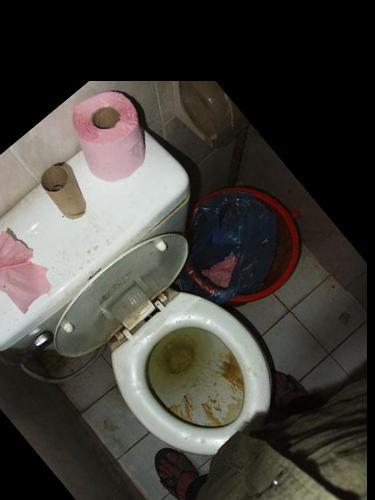Bote de Basura: (135, 145, 350, 358)
Sanitario: (0, 84, 364, 500)
